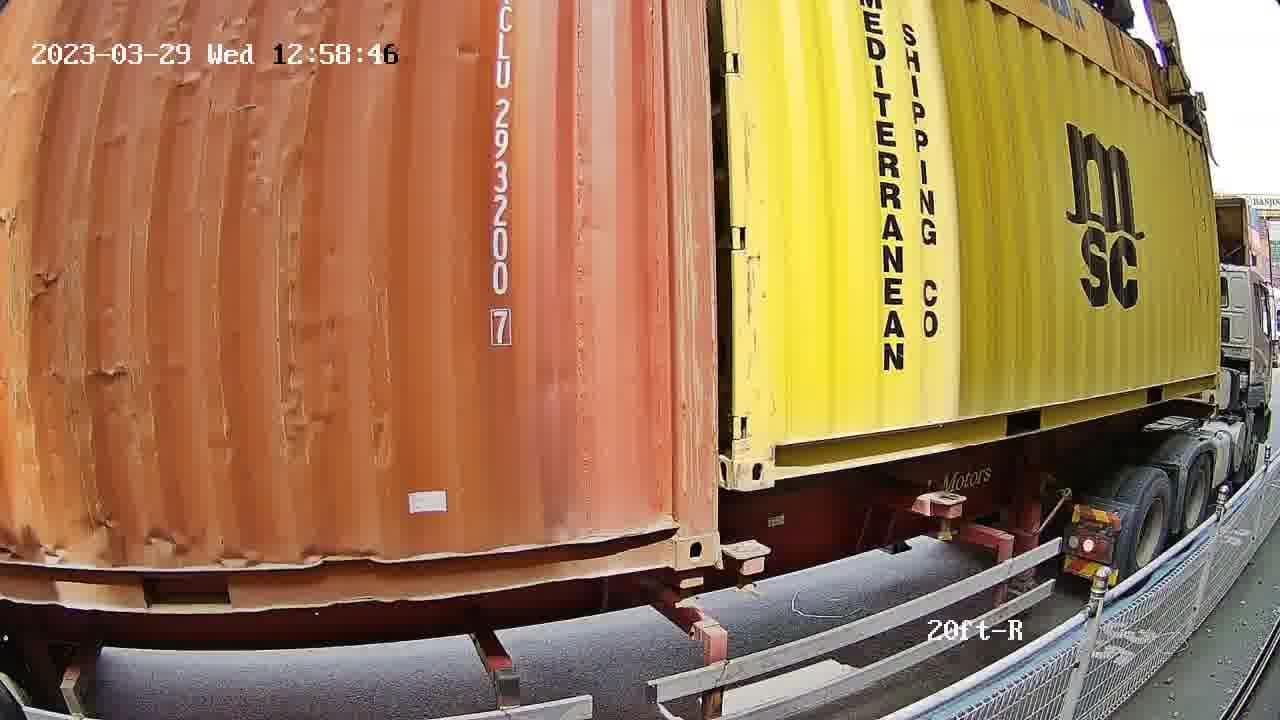Cone: (723, 536, 770, 594), (664, 565, 713, 608)
Hole_L: (734, 408, 806, 492)
Hole_R: (631, 491, 717, 571)
Tire: (1117, 471, 1170, 593), (1176, 453, 1214, 548)
